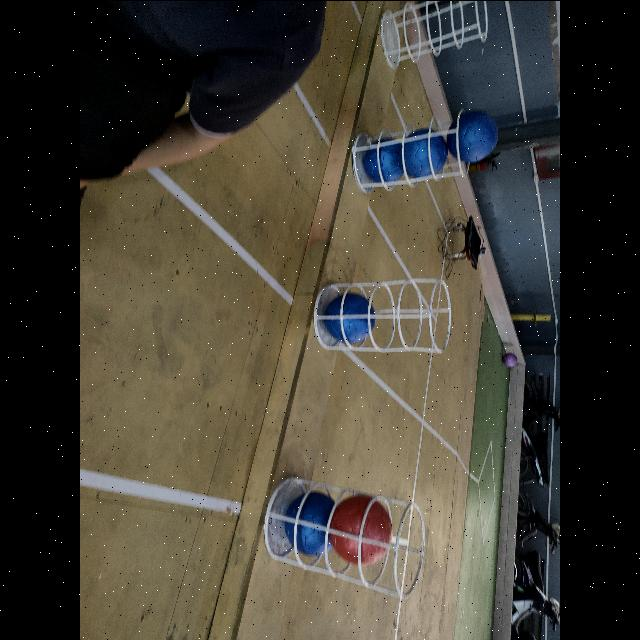B: (288, 489, 334, 555), (322, 292, 374, 344), (446, 110, 500, 160), (404, 128, 448, 180), (367, 135, 407, 185)
R: (332, 493, 396, 562)
